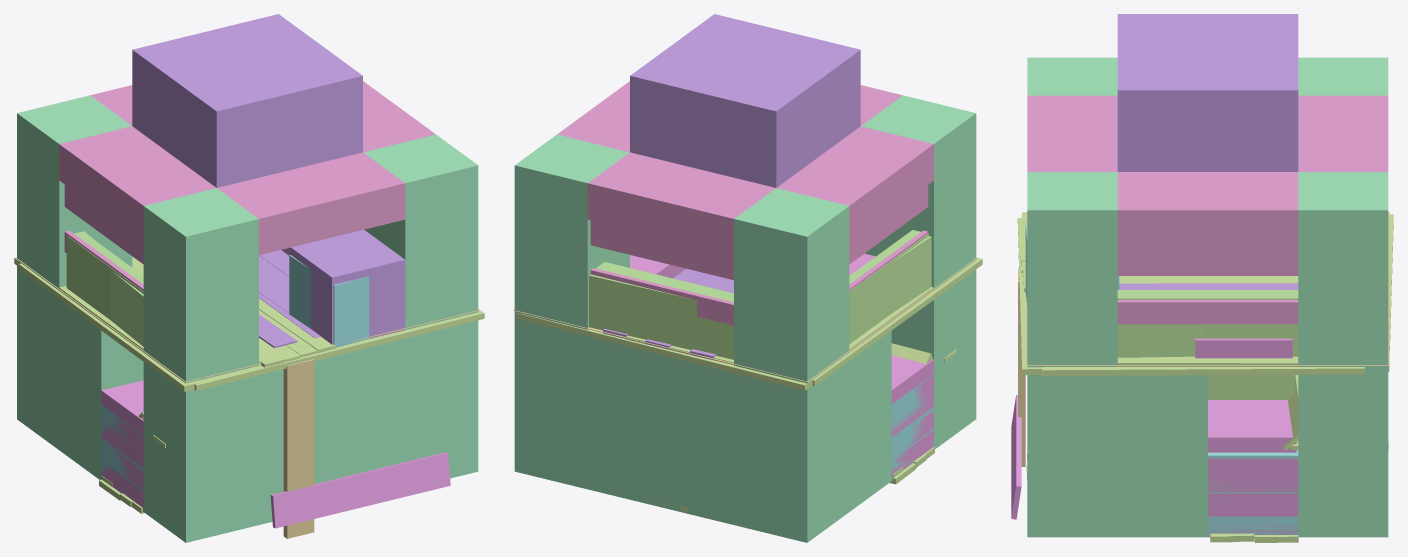
Rendered from crowsnest.glb.
3 renders of one model, left to right at view 1: azimuth 30°, elevation 25°; view 2: azimuth 150°, elevation 25°; view 3: azimuth 270°, elevation 25°, orthographic. The views are drawn at different scales.
Parts seen in each view (by area): view 1: S5|SM_Bunker_Roof_01A#0, S5|SM_HescoBarrier_Tall_Stage5_01a#3, S3|SM_HescoBarrier_Tall_Stage5_01a#5, S4|SM_HescoBarrier_Tall_Stage5_01a#1, S5|SM_HescoBarrier_Tall_Stage5_01a#5, S5|SM_HESCO_Stage5_01a#2, S5|SM_HescoBarrier_Tall_Stage5_01a#2, S3|SM_HescoBarrier_Tall_Stage5_01a#2, S3|SM_HescoBarrier_Tall_Stage5_01a#3, S5|SM_HESCO_Stage5_01a#1, S4|SM_HescoBarrier_Tall_Stage5_01a#2, S5|SM_HESCO_Stage5_01a#0 (+24 smaller); view 2: S5|SM_Bunker_Roof_01A#0, S5|SM_HescoBarrier_Tall_Stage5_01a#2, S5|SM_HescoBarrier_Tall_Stage5_01a#4, S3|SM_HescoBarrier_Tall_Stage5_01a#7, S5|SM_HESCO_Stage5_01a#3, S3|SM_HescoBarrier_Tall_Stage5_01a#0, S5|SM_HescoBarrier_Tall_Stage5_01a#3, S3|SM_HescoBarrier_Tall_Stage5_01a#8, S3|SM_HescoBarrier_Tall_Stage5_01a#9, S5|SM_HESCO_Stage5_01a#4, S4|SM_HescoBarrier_Tall_Stage5_01a#4, S3|SM_HescoBarrier_Tall_Stage5_01a#5 (+20 smaller); view 3: S5|SM_Bunker_Roof_01A#0, S5|SM_HescoBarrier_Tall_Stage5_01a#4, S5|SM_HescoBarrier_Tall_Stage5_01a#5, S3|SM_HescoBarrier_Tall_Stage5_01a#0, S3|SM_HescoBarrier_Tall_Stage5_01a#1, S3|SM_HescoBarrier_Tall_Stage5_01a#2, S5|SM_HESCO_Stage5_01a#1, S5|SM_HESCO_Stage5_01a#4, S4|SM_HescoBarrier_Tall_Stage5_01a#8, S4|SM_HescoBarrier_Tall_Stage5_01a#7, S4|SM_HescoBarrier_Tall_Stage5_01a#6, S3|SM_HescoBarrier_Tall_Stage1_01a#6 (+22 smaller).
Boxes of the visible parts, x1=… form: S5|SM_Bunker_Roof_01A#0: x1=59, y1=81, x2=435, y2=290; S5|SM_HescoBarrier_Tall_Stage5_01a#3: x1=143, y1=188, x2=258, y2=383; S3|SM_HescoBarrier_Tall_Stage5_01a#5: x1=143, y1=362, x2=258, y2=542; S4|SM_HescoBarrier_Tall_Stage5_01a#1: x1=143, y1=362, x2=258, y2=542; S5|SM_HescoBarrier_Tall_Stage5_01a#5: x1=363, y1=134, x2=478, y2=329; S5|SM_HESCO_Stage5_01a#2: x1=174, y1=63, x2=289, y2=187; S5|SM_HescoBarrier_Tall_Stage5_01a#2: x1=17, y1=95, x2=132, y2=290; S3|SM_HescoBarrier_Tall_Stage5_01a#2: x1=405, y1=320, x2=478, y2=478; S3|SM_HescoBarrier_Tall_Stage5_01a#3: x1=332, y1=339, x2=405, y2=479; S5|SM_HESCO_Stage5_01a#1: x1=248, y1=45, x2=362, y2=169; S4|SM_HescoBarrier_Tall_Stage5_01a#2: x1=59, y1=299, x2=143, y2=479; S5|SM_HESCO_Stage5_01a#0: x1=290, y1=229, x2=405, y2=344; S5|SM_Bunker_Roof_01A#0: x1=557, y1=81, x2=933, y2=325; S5|SM_HescoBarrier_Tall_Stage5_01a#2: x1=734, y1=188, x2=849, y2=389; S5|SM_HescoBarrier_Tall_Stage5_01a#4: x1=514, y1=134, x2=629, y2=331; S3|SM_HescoBarrier_Tall_Stage5_01a#7: x1=734, y1=362, x2=849, y2=542; S5|SM_HESCO_Stage5_01a#3: x1=703, y1=63, x2=818, y2=187; S3|SM_HescoBarrier_Tall_Stage5_01a#0: x1=514, y1=318, x2=587, y2=489; S5|SM_HescoBarrier_Tall_Stage5_01a#3: x1=861, y1=95, x2=976, y2=290; S3|SM_HescoBarrier_Tall_Stage5_01a#8: x1=661, y1=355, x2=733, y2=523; S3|SM_HescoBarrier_Tall_Stage5_01a#9: x1=587, y1=336, x2=660, y2=502; S5|SM_HESCO_Stage5_01a#4: x1=630, y1=45, x2=744, y2=169; S4|SM_HescoBarrier_Tall_Stage5_01a#4: x1=661, y1=355, x2=733, y2=524; S3|SM_HescoBarrier_Tall_Stage5_01a#5: x1=891, y1=269, x2=976, y2=448; S5|SM_Bunker_Roof_01A#0: x1=1027, y1=95, x2=1388, y2=324; S5|SM_HescoBarrier_Tall_Stage5_01a#4: x1=1298, y1=172, x2=1388, y2=373; S5|SM_HescoBarrier_Tall_Stage5_01a#5: x1=1027, y1=172, x2=1117, y2=367; S3|SM_HescoBarrier_Tall_Stage5_01a#0: x1=1298, y1=374, x2=1388, y2=537; S3|SM_HescoBarrier_Tall_Stage5_01a#1: x1=1117, y1=375, x2=1207, y2=537; S3|SM_HescoBarrier_Tall_Stage5_01a#2: x1=1027, y1=375, x2=1117, y2=537; S5|SM_HESCO_Stage5_01a#1: x1=1117, y1=52, x2=1207, y2=171; S5|SM_HESCO_Stage5_01a#4: x1=1208, y1=52, x2=1298, y2=171; S4|SM_HescoBarrier_Tall_Stage5_01a#8: x1=1027, y1=375, x2=1117, y2=537; S4|SM_HescoBarrier_Tall_Stage5_01a#7: x1=1117, y1=375, x2=1207, y2=536; S4|SM_HescoBarrier_Tall_Stage5_01a#6: x1=1298, y1=374, x2=1388, y2=536; S3|SM_HescoBarrier_Tall_Stage1_01a#6: x1=1208, y1=400, x2=1296, y2=452.
Bounding box in the file's own units: 6.21 × 7.82 × 6.36.
